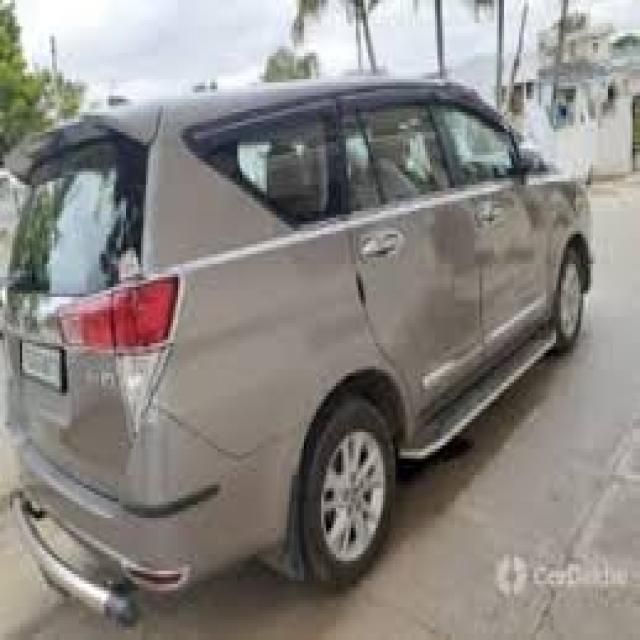light_vehicle: (0, 72, 594, 630)
